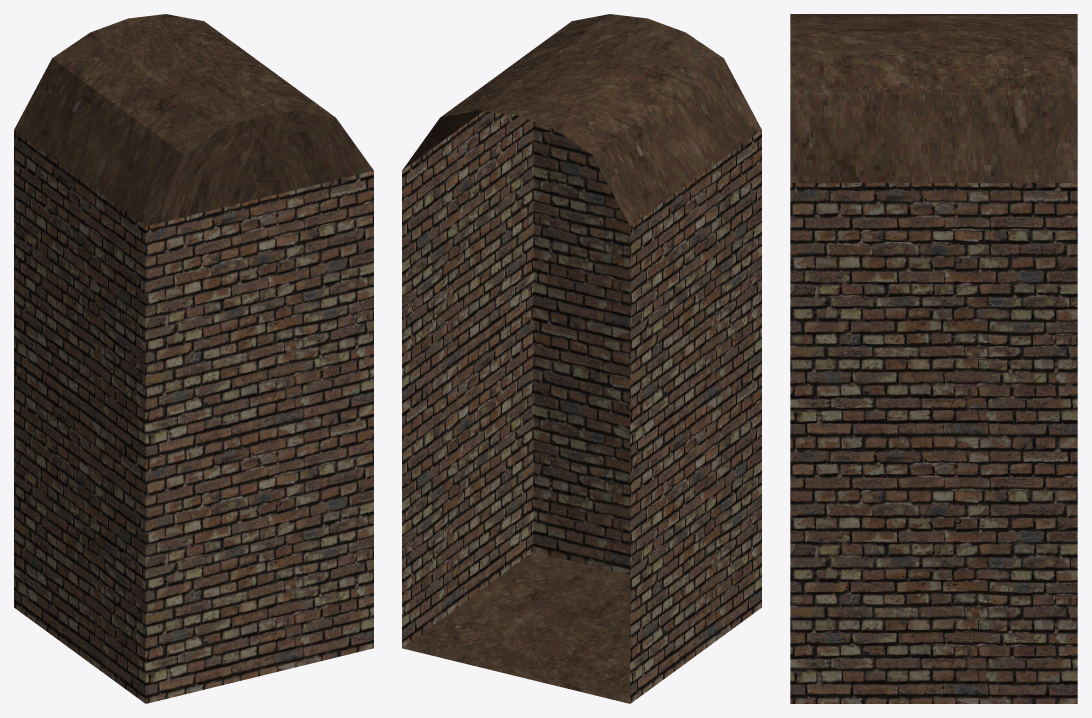
Rendered from room_dead_end.glb.
3 renders of one model, left to right at view 1: azimuth 30°, elevation 25°; view 2: azimuth 150°, elevation 25°; view 3: azimuth 270°, elevation 25°, orthographic. The views are drawn at different scales.
Visible parts, largest first — view 1: Dead-End; view 2: Dead-End; view 3: Dead-End.
Part boxes in pixels (bbox=[...]): Dead-End: bbox=[14, 14, 373, 703]; Dead-End: bbox=[402, 14, 761, 703]; Dead-End: bbox=[790, 14, 1077, 703].
Bounding box in the file's own units: 2 × 4.7 × 2.
2 materials, 2 textured.
